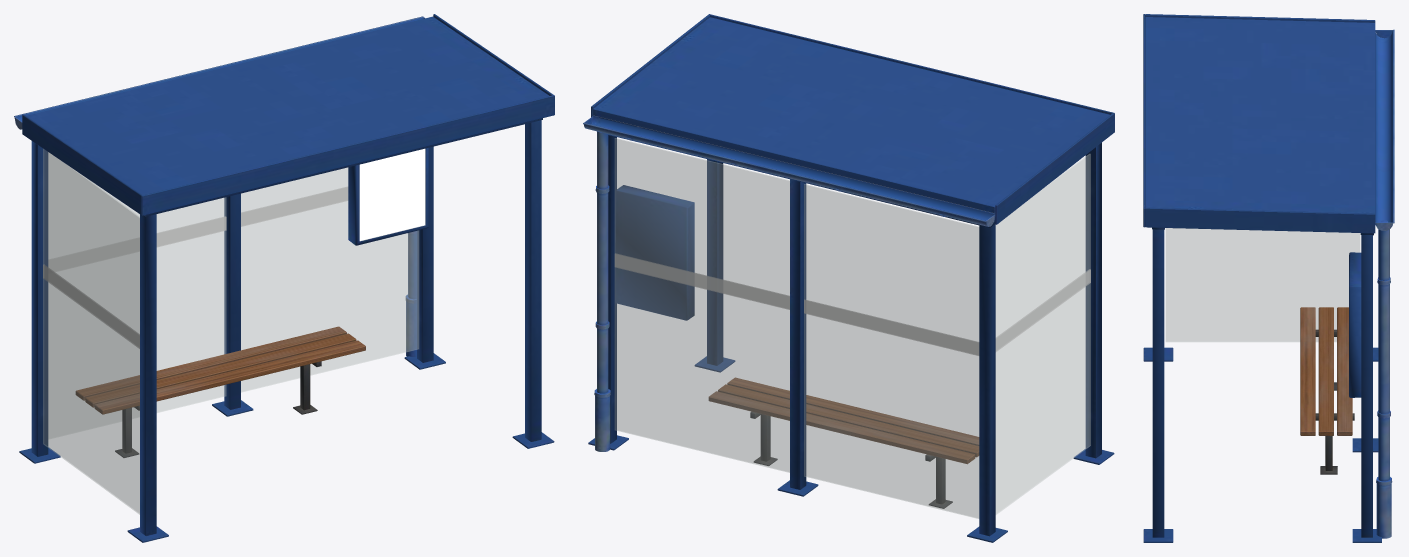
File: bus-shelter.glb
The picture shows the model from 3 angles, left to right: view 1: azimuth 30°, elevation 25°; view 2: azimuth 150°, elevation 25°; view 3: azimuth 270°, elevation 25°; orthographic projection. The views are drawn at different scales.
Visible parts, largest first — view 1: bus-stop-shelter_body, bus-stop-shelter_back_0_glass, bus-stop-shelter_side_glass, bus-stop-shelter_back_1_glass, bus-stop-shelter_bench, bus-stop-shelter_info_light; view 2: bus-stop-shelter_body, bus-stop-shelter_back_0_glass, bus-stop-shelter_back_1_glass, bus-stop-shelter_side_glass, bus-stop-shelter_bench; view 3: bus-stop-shelter_body, bus-stop-shelter_side_glass, bus-stop-shelter_bench.
Boxes of the visible parts, x1,y1,x2,y2 form: bus-stop-shelter_body: [14, 14, 554, 542]; bus-stop-shelter_back_0_glass: [48, 153, 226, 438]; bus-stop-shelter_side_glass: [43, 149, 139, 514]; bus-stop-shelter_back_1_glass: [241, 167, 418, 392]; bus-stop-shelter_bench: [75, 326, 365, 457]; bus-stop-shelter_info_light: [359, 148, 425, 240]; bus-stop-shelter_body: [583, 14, 1114, 542]; bus-stop-shelter_back_0_glass: [804, 184, 979, 518]; bus-stop-shelter_back_1_glass: [614, 138, 789, 472]; bus-stop-shelter_side_glass: [995, 154, 1090, 514]; bus-stop-shelter_bench: [708, 377, 979, 508]; bus-stop-shelter_body: [1143, 14, 1394, 542]; bus-stop-shelter_side_glass: [1166, 228, 1359, 341]; bus-stop-shelter_bench: [1300, 307, 1354, 474].
Bounding box in the file's own units: 3.13 × 2.52 × 1.71.
5 materials, 2 textured.
